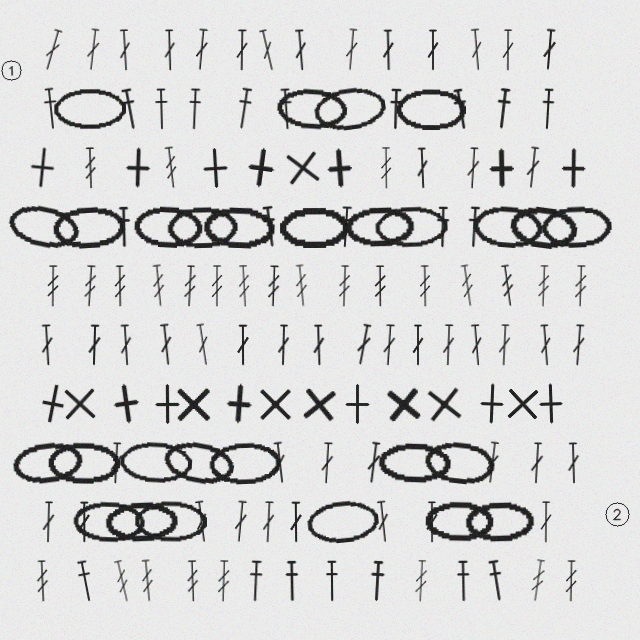chain: (4, 199, 84, 255), (160, 436, 237, 490), (311, 83, 388, 134), (10, 438, 86, 488), (422, 438, 498, 487), (507, 202, 581, 252), (305, 497, 380, 546), (471, 203, 545, 250), (51, 204, 126, 250), (118, 440, 193, 485), (275, 86, 348, 132), (132, 204, 205, 249), (374, 205, 448, 249), (377, 441, 451, 485), (104, 500, 178, 544), (540, 204, 612, 249), (202, 205, 275, 249), (208, 441, 281, 485), (72, 500, 145, 544), (166, 205, 238, 249), (344, 205, 416, 249), (464, 500, 536, 544), (47, 441, 120, 484), (134, 500, 207, 543), (53, 88, 126, 130), (424, 500, 495, 543), (395, 88, 466, 130), (278, 206, 349, 248)
double: (40, 28, 65, 72), (256, 28, 279, 72), (353, 323, 374, 366), (193, 323, 213, 366), (364, 441, 383, 484), (483, 441, 502, 484), (192, 500, 211, 543), (84, 28, 102, 71), (524, 146, 542, 189), (157, 323, 175, 366), (271, 441, 289, 484), (374, 500, 392, 543), (193, 28, 210, 71), (343, 28, 360, 71), (468, 28, 485, 71), (541, 28, 558, 71), (232, 500, 249, 543), (292, 29, 309, 71), (468, 324, 485, 366), (537, 324, 554, 366), (570, 324, 587, 366), (117, 29, 133, 71), (465, 147, 481, 189), (39, 324, 55, 366), (118, 324, 134, 366), (381, 324, 397, 366), (108, 442, 124, 484), (319, 442, 335, 484), (529, 442, 545, 484), (162, 29, 177, 71), (415, 147, 430, 189), (87, 324, 102, 366), (276, 324, 291, 366), (311, 324, 326, 366), (441, 324, 456, 366), (497, 324, 512, 366), (566, 442, 581, 484), (41, 501, 56, 543), (261, 501, 276, 543), (235, 29, 249, 71), (381, 29, 395, 71), (426, 29, 440, 71), (501, 29, 515, 71), (236, 324, 250, 366), (411, 324, 425, 366), (77, 501, 91, 543), (289, 501, 303, 543), (425, 501, 439, 543), (539, 501, 553, 543)
half_double: (118, 87, 141, 131), (74, 559, 97, 603), (450, 87, 472, 131), (233, 87, 255, 130), (485, 559, 507, 602), (259, 205, 280, 248), (41, 87, 61, 130), (493, 87, 513, 130), (277, 88, 295, 130), (539, 88, 557, 130), (337, 206, 355, 248), (465, 206, 483, 248), (368, 560, 386, 602), (153, 88, 170, 130), (186, 88, 203, 130), (387, 88, 404, 130), (434, 206, 451, 248), (247, 560, 264, 602), (116, 206, 132, 248), (284, 560, 300, 602), (324, 560, 340, 602), (455, 560, 471, 602)
noise: (603, 500, 631, 528), (0, 58, 24, 83)
single: (28, 379, 77, 428), (237, 144, 284, 191), (279, 144, 326, 191), (103, 380, 150, 427), (296, 381, 342, 427), (380, 381, 426, 427), (421, 381, 467, 427), (20, 145, 65, 190), (216, 381, 261, 426), (193, 146, 237, 190), (317, 146, 361, 190), (116, 146, 159, 189), (58, 382, 101, 425), (470, 382, 513, 425), (501, 382, 544, 425), (529, 382, 572, 425), (480, 147, 522, 189), (552, 147, 594, 189), (146, 383, 188, 425), (172, 383, 214, 425), (254, 383, 296, 425), (336, 383, 378, 425)
treble: (111, 559, 134, 603), (528, 559, 548, 602), (458, 264, 477, 307), (498, 264, 517, 307), (162, 146, 180, 189), (150, 264, 167, 307), (293, 264, 310, 307), (139, 559, 156, 602), (82, 265, 98, 307), (182, 265, 198, 307), (236, 265, 252, 307), (413, 560, 429, 602), (83, 147, 98, 189), (266, 265, 281, 307), (337, 265, 352, 307), (536, 265, 551, 307), (573, 265, 588, 307), (35, 560, 50, 602), (185, 560, 200, 602), (216, 560, 231, 602), (379, 147, 393, 189), (46, 265, 60, 307), (113, 265, 127, 307), (210, 265, 224, 307), (373, 265, 387, 307), (418, 265, 432, 307), (564, 560, 578, 602)
